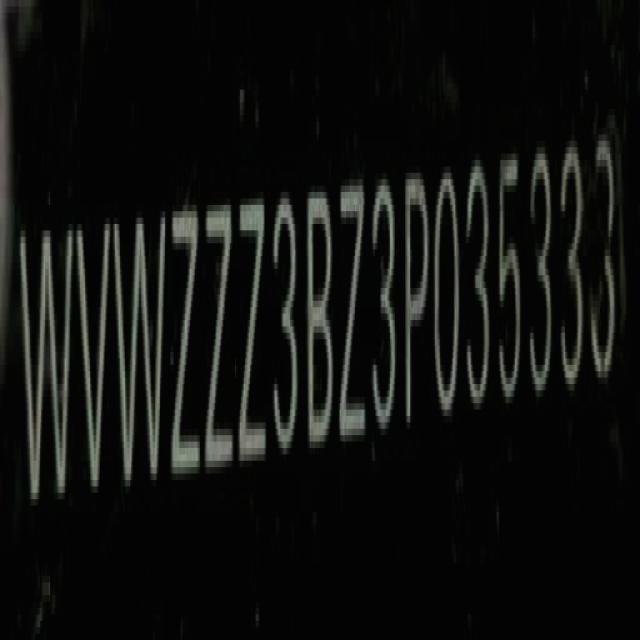0: (434, 168, 459, 427)
3: (273, 185, 300, 469), (372, 172, 399, 446), (588, 135, 616, 391), (558, 136, 585, 398), (464, 157, 490, 422), (530, 143, 554, 406)
5: (498, 145, 524, 409)
B: (306, 174, 335, 456)
P: (404, 165, 432, 435)
V: (73, 202, 111, 508)
W: (112, 202, 170, 490), (19, 221, 70, 522)
Z: (171, 195, 204, 495), (236, 183, 267, 479), (205, 190, 235, 488), (341, 172, 369, 454)
